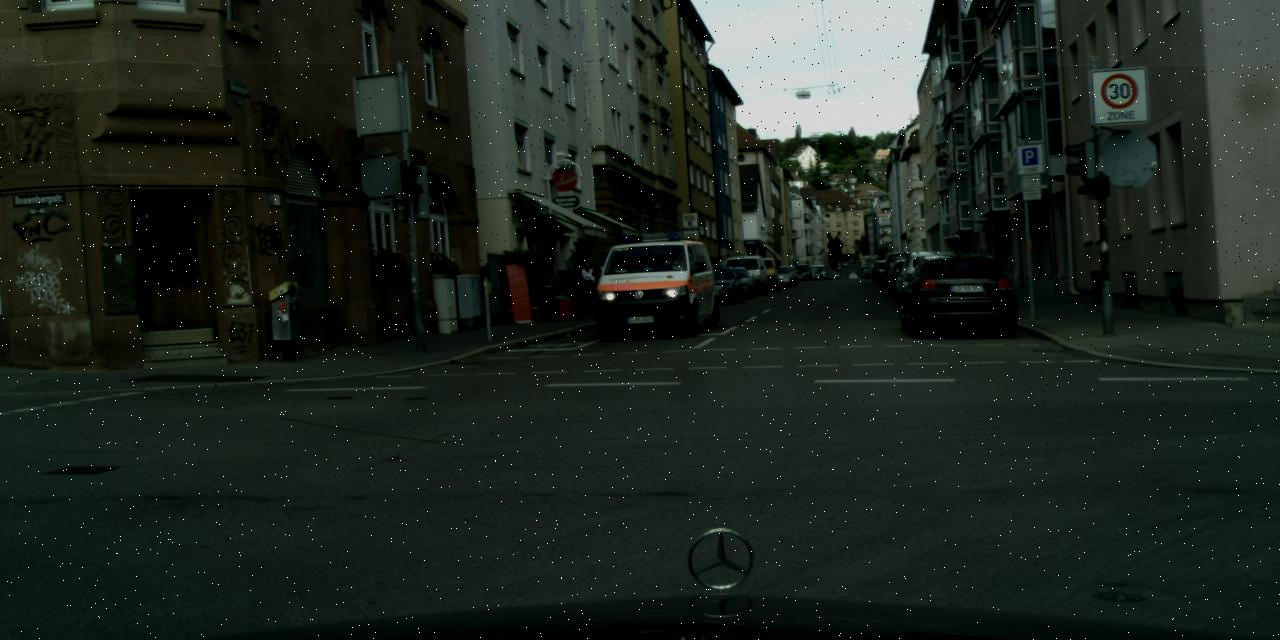ped: (550, 268, 586, 318)
